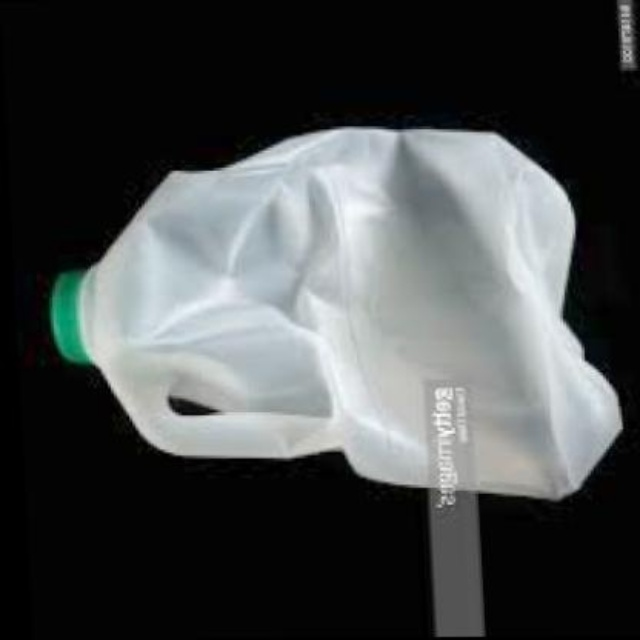trash: (54, 128, 620, 500)
